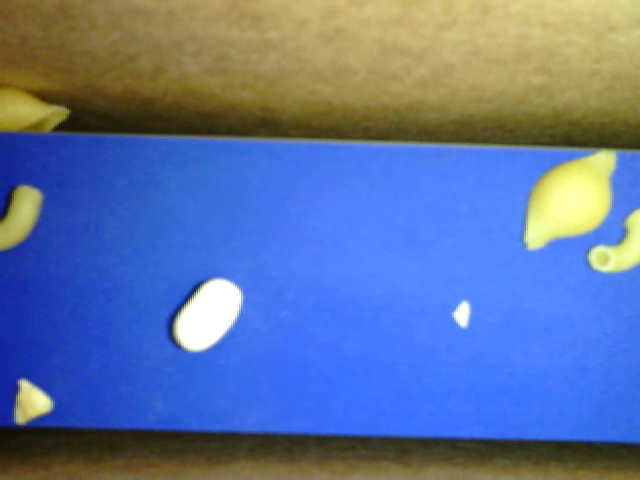elbow: (3, 182, 54, 257), (587, 208, 636, 274)
shell: (518, 145, 628, 252), (4, 77, 71, 141)
